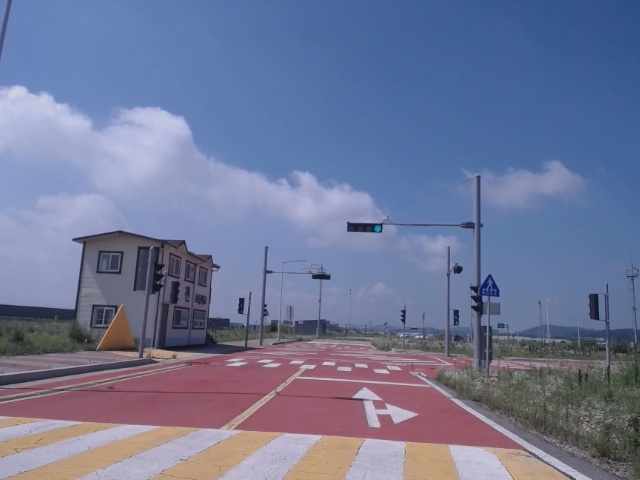straight_green_4: (347, 224, 382, 233)
